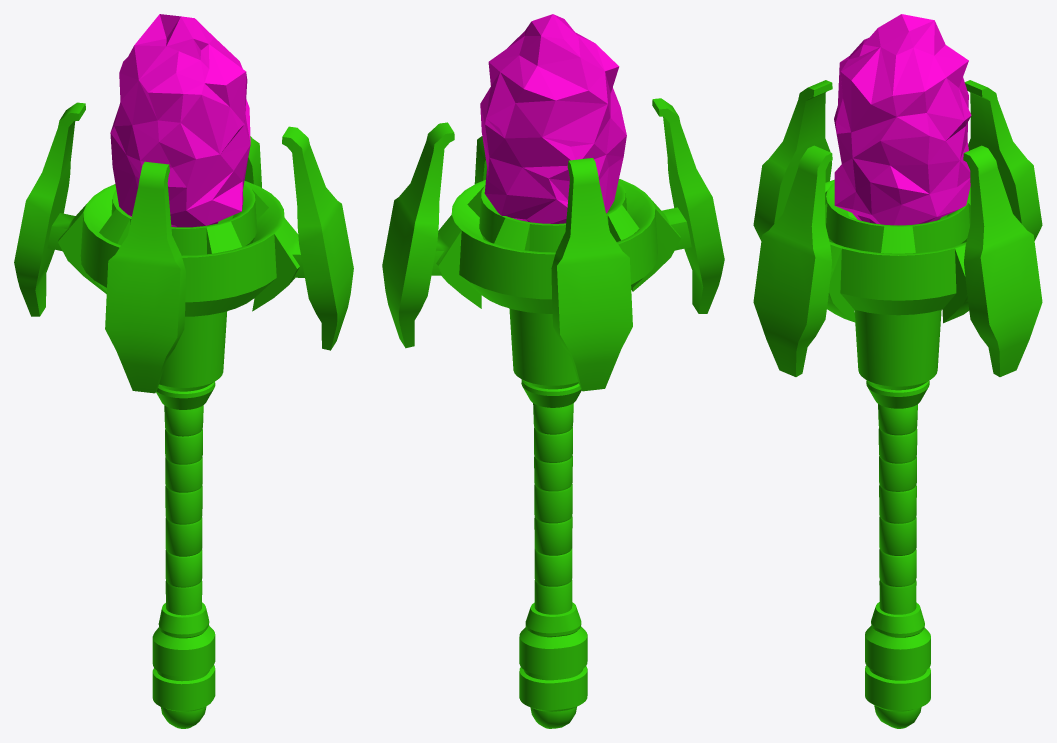
File: AncientScepterLucid.fbx
3 renders of one model, left to right at view 1: azimuth 30°, elevation 25°; view 2: azimuth 150°, elevation 25°; view 3: azimuth 270°, elevation 25°, orthographic.
Parts seen in each view (by area): view 1: Cube.001; view 2: Cube.001; view 3: Cube.001.
Part boxes in pixels (<box>): Cube.001: <box>14,14,353,728</box>; Cube.001: <box>382,14,724,728</box>; Cube.001: <box>753,14,1042,728</box>.
Size of the model in its own units: 70.18 by 191 by 70.32.
